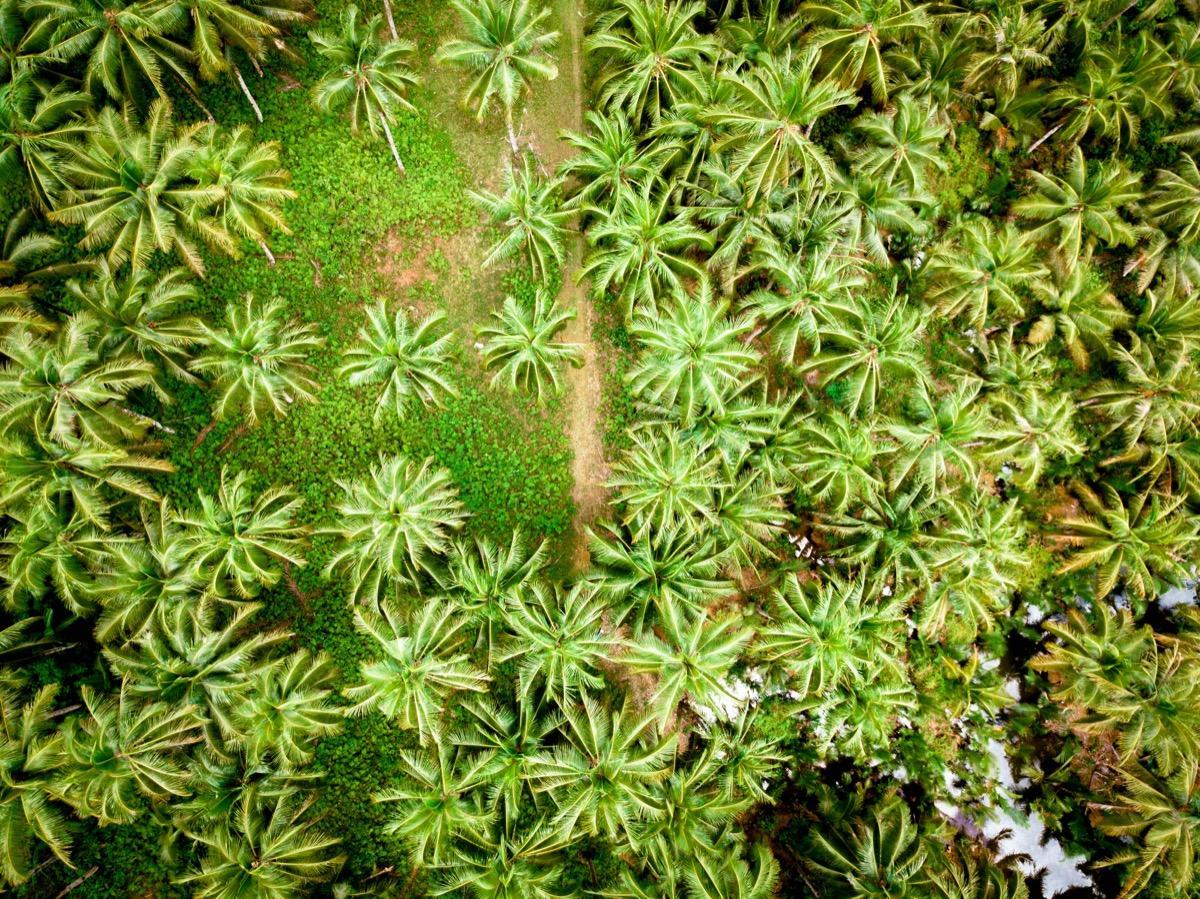coconut_tree: (208, 640, 358, 787), (336, 440, 477, 576), (334, 438, 475, 574), (916, 494, 1057, 630), (1025, 609, 1166, 745), (773, 382, 914, 518), (172, 121, 313, 257), (47, 122, 188, 258), (914, 194, 1055, 330), (741, 553, 882, 689), (375, 726, 516, 862), (524, 703, 665, 839), (497, 578, 638, 714), (725, 54, 866, 190), (621, 281, 762, 417), (482, 267, 623, 403), (330, 296, 471, 432), (181, 280, 322, 416), (331, 603, 472, 739), (155, 462, 296, 598), (445, 0, 586, 134), (296, 0, 437, 134), (599, 420, 743, 537)
